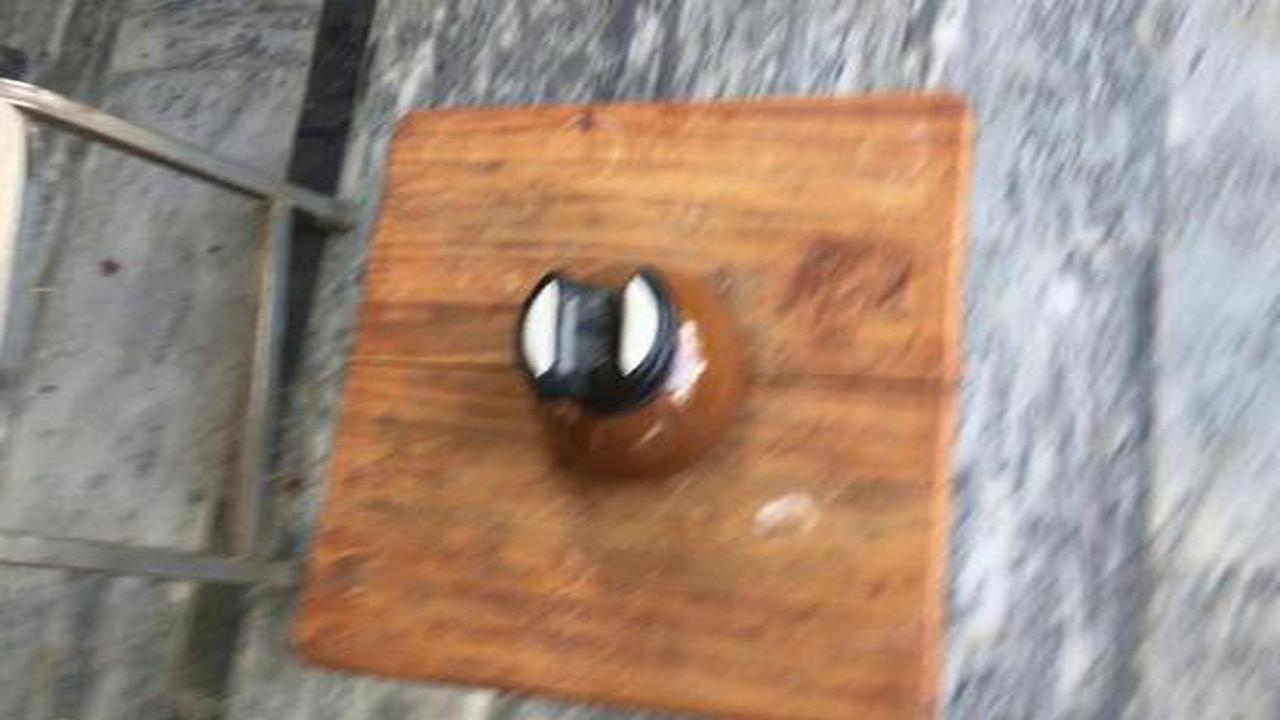insulator_pin: (487, 253, 767, 497)
